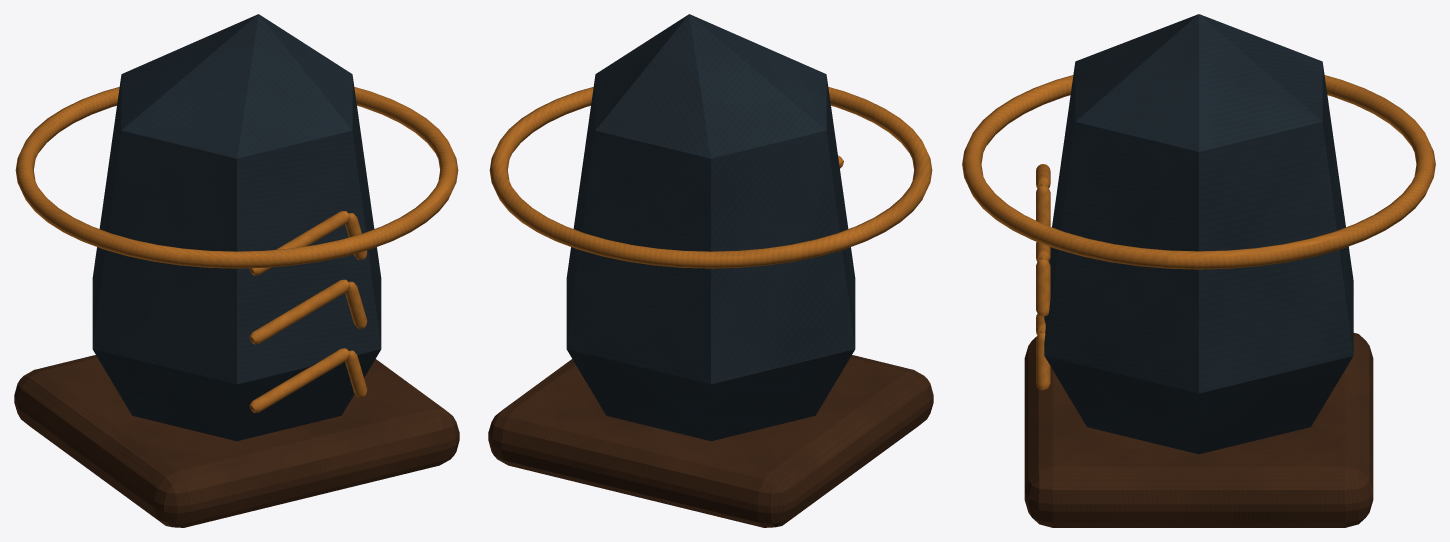
The model's file is relic_09.glb.
3 views of the same model, side by side, from view 1: azimuth 30°, elevation 25°; view 2: azimuth 150°, elevation 25°; view 3: azimuth 270°, elevation 25° (orthographic). The views are drawn at different scales.
Parts seen in each view (by area): view 1: Weathered_basalt, Patinated_bronze, Brushed_gold; view 2: Weathered_basalt, Patinated_bronze, Brushed_gold; view 3: Weathered_basalt, Patinated_bronze, Brushed_gold.
Boxes of the visible parts, x1,y1,x2,y2 form: Weathered_basalt: [92, 14, 381, 441]; Patinated_bronze: [14, 355, 459, 527]; Brushed_gold: [15, 87, 458, 412]; Weathered_basalt: [566, 14, 855, 441]; Patinated_bronze: [488, 355, 933, 527]; Brushed_gold: [489, 87, 932, 268]; Weathered_basalt: [1044, 14, 1353, 454]; Patinated_bronze: [1024, 333, 1373, 527]; Brushed_gold: [962, 75, 1435, 390].
Size of the model in its own units: 0.584 by 0.62 by 0.584.
Materials: 3 (3 with a texture image).
